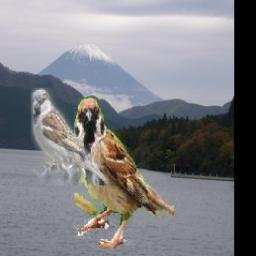Sparrow: (75, 99, 175, 250), (32, 89, 110, 186)
